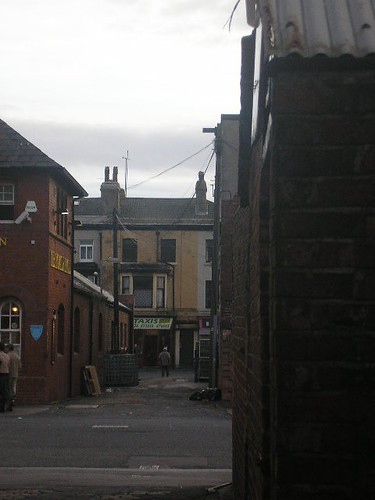building: (229, 20, 375, 500), (71, 191, 216, 361), (1, 114, 85, 399)
sky: (22, 1, 235, 167)
street: (1, 396, 225, 500)
